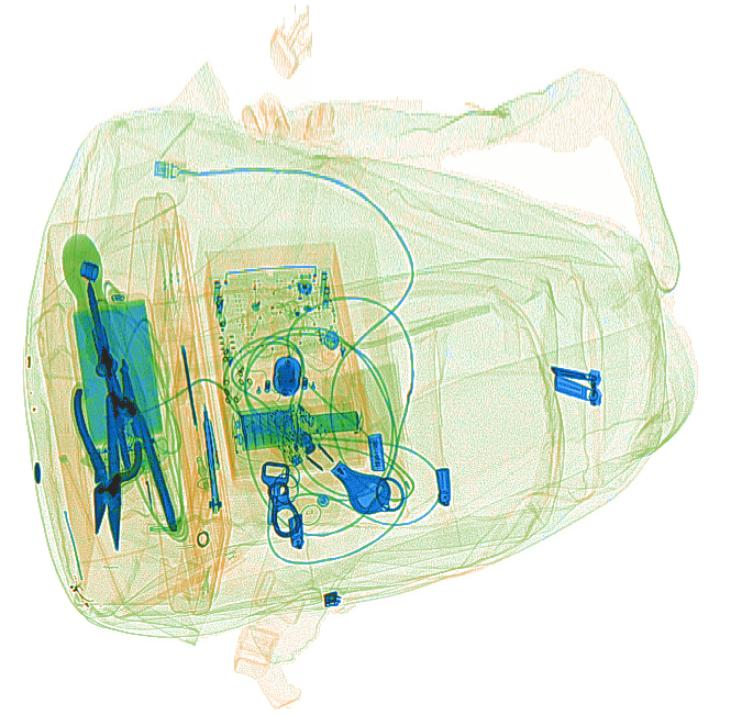battery: (231, 403, 302, 452), (306, 407, 359, 437)
